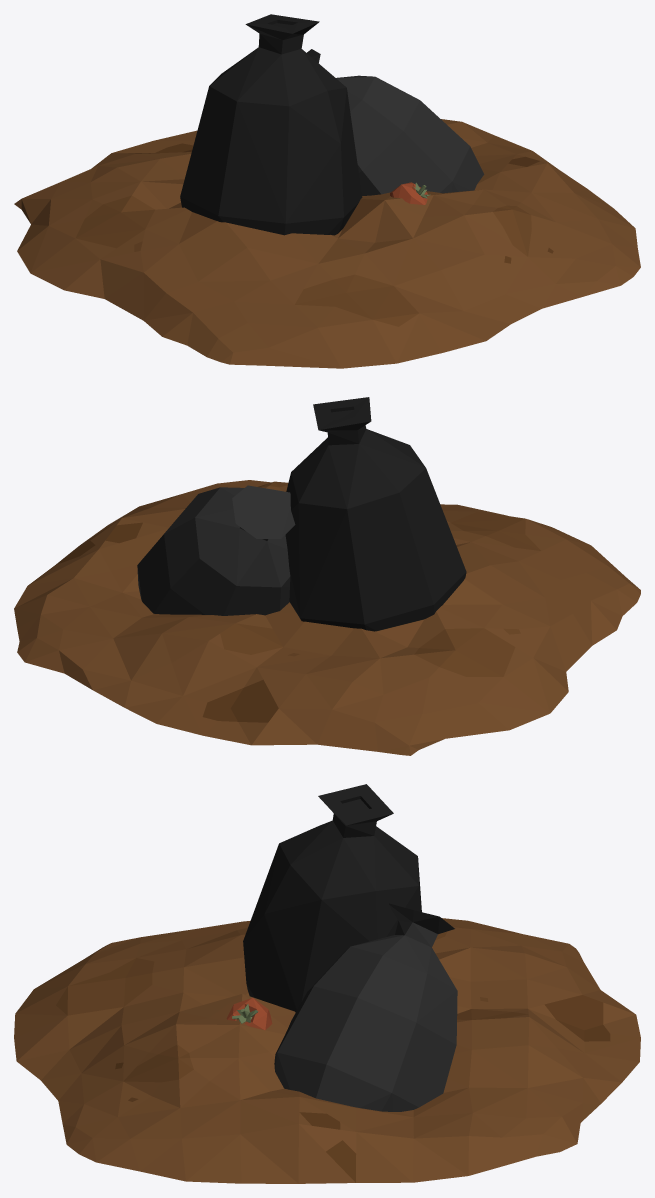
Rendered from SM_Props_Garbage_01.fbx.
The picture shows the model from 3 angles, top to bottom: view 1: azimuth 30°, elevation 25°; view 2: azimuth 150°, elevation 25°; view 3: azimuth 270°, elevation 25°; orthographic projection. The views are drawn at different scales.
Visible parts, largest first — view 1: SM_Props_Garbage_01; view 2: SM_Props_Garbage_01; view 3: SM_Props_Garbage_01.
Part boxes in pixels (x1,y1,x2,y2): SM_Props_Garbage_01: [14, 14, 640, 368]; SM_Props_Garbage_01: [14, 397, 640, 755]; SM_Props_Garbage_01: [14, 784, 640, 1183].
Bounding box in the file's own units: 1.28 × 0.709 × 1.27.
